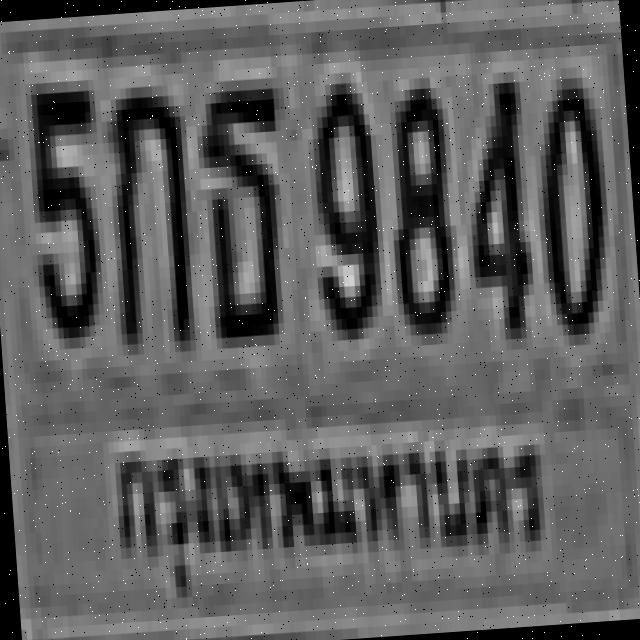0: (528, 61, 610, 331)
10GorGai: (98, 74, 190, 345)
33ThorThong: (193, 77, 289, 338)
4: (456, 72, 530, 330)
5: (19, 70, 100, 340)
8: (378, 77, 452, 326)
9: (303, 72, 378, 330)
Bangkok: (103, 402, 553, 614)
